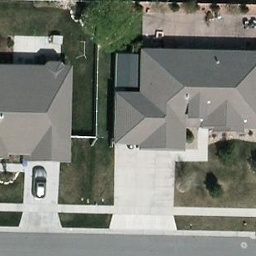car: (31, 167, 49, 199)
